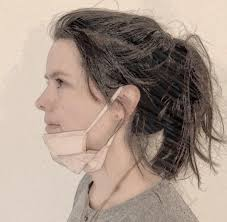mask_weared_incorrect: (34, 56, 93, 177)
